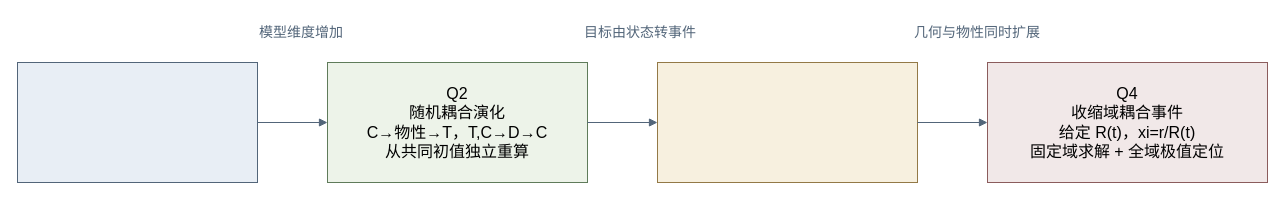
The diagram is 1285 pixels wide and 200 high, and some of its shapes have lost their labels. Each missing label, with the centre of its shape:
Q1 确定性基线 常物性 + 解耦 得到 T(r,t), C(r,t): point 137,122
Q3 阈值事件反解 M(t)=max C(r,t) 扫描 + Brent + 严格后继检查: point 787,122
